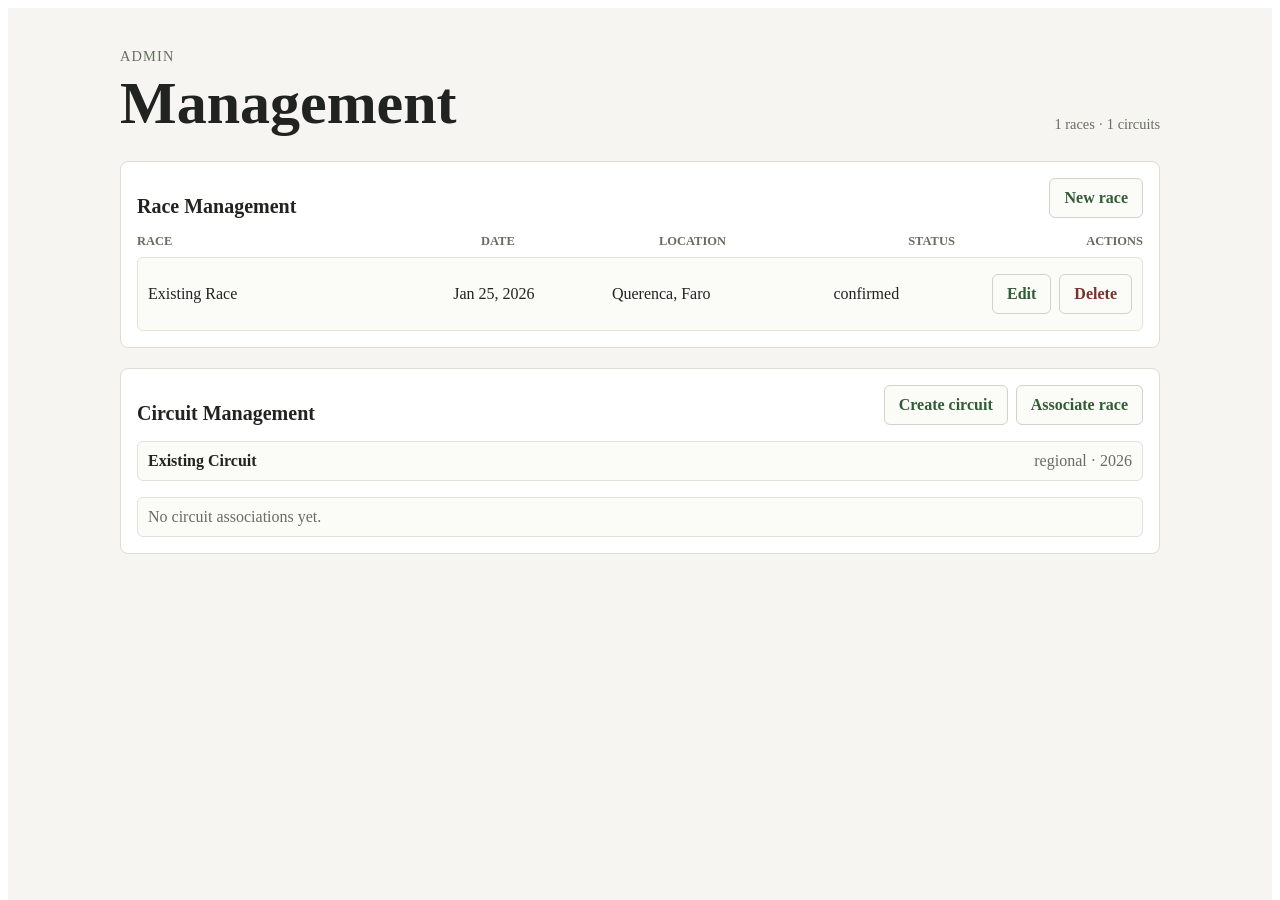
Test: AdminDashboardComponent › edits and deletes a race
The width and height of the screenshot is (1280, 900).
Click the button "Edit" at (1022, 294), box [992,274,1051,314]
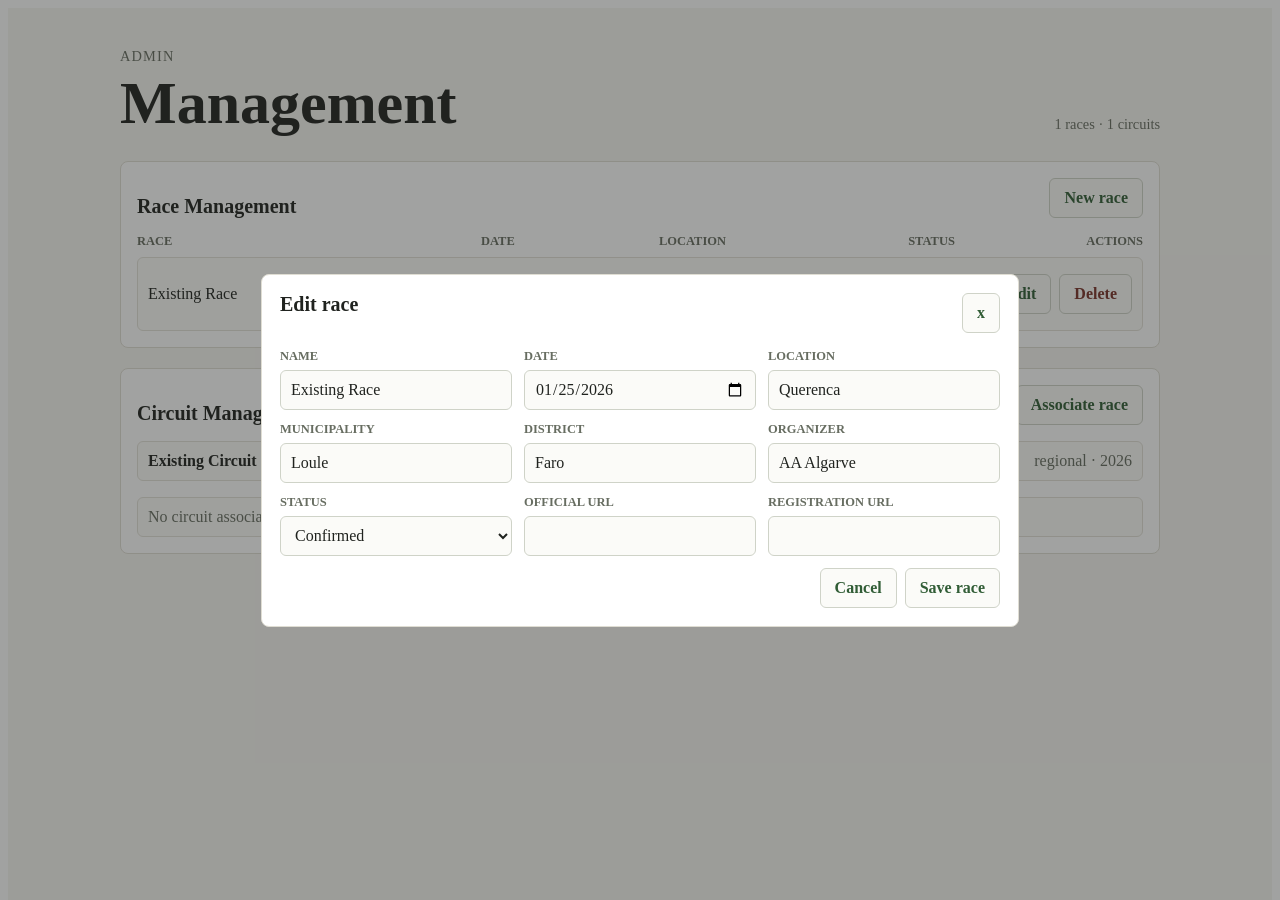
Replace the text in the field labelled "Name" with "Updated Race" at (396, 390), box [280,370,512,410]
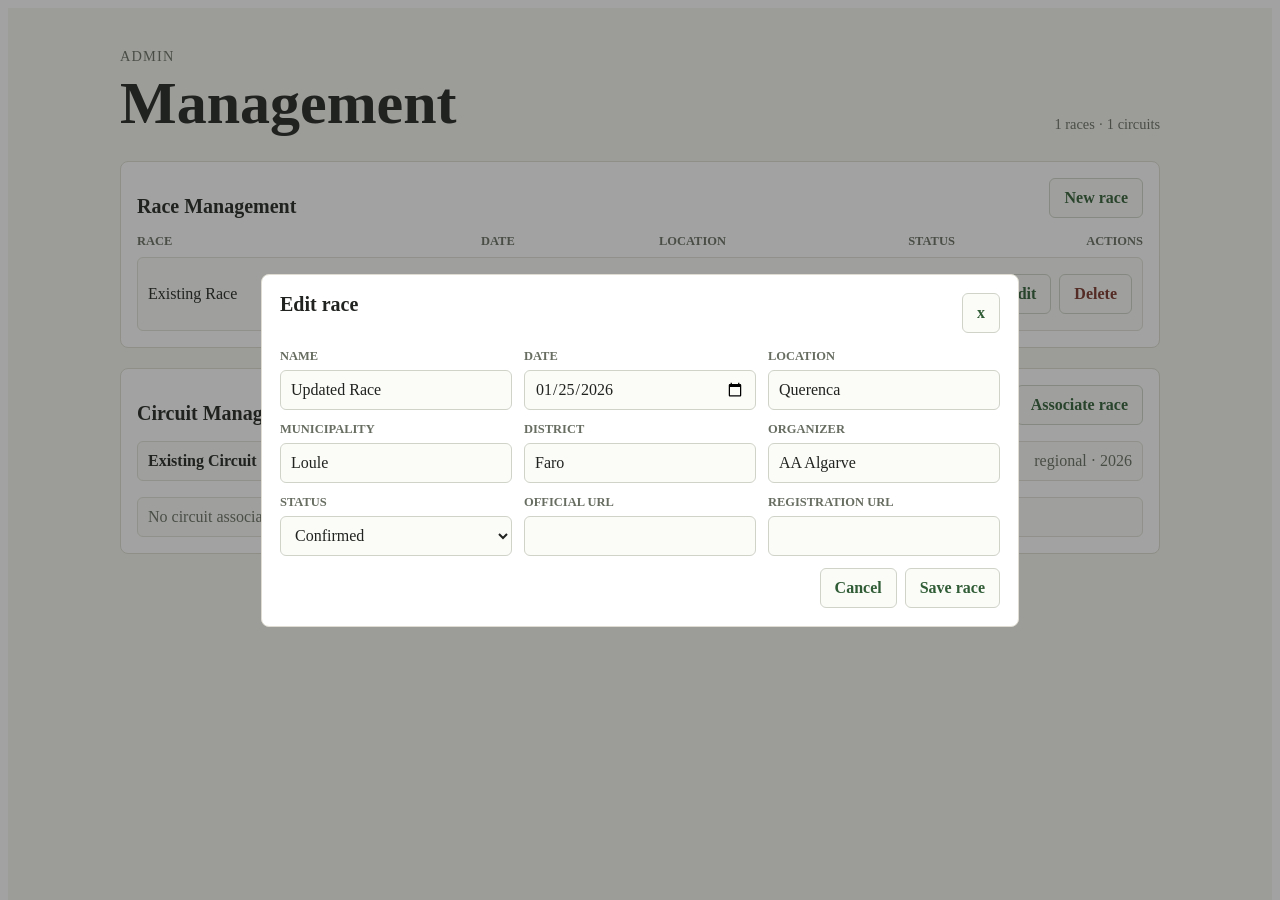
Submit the form, box [280,348,1000,608]
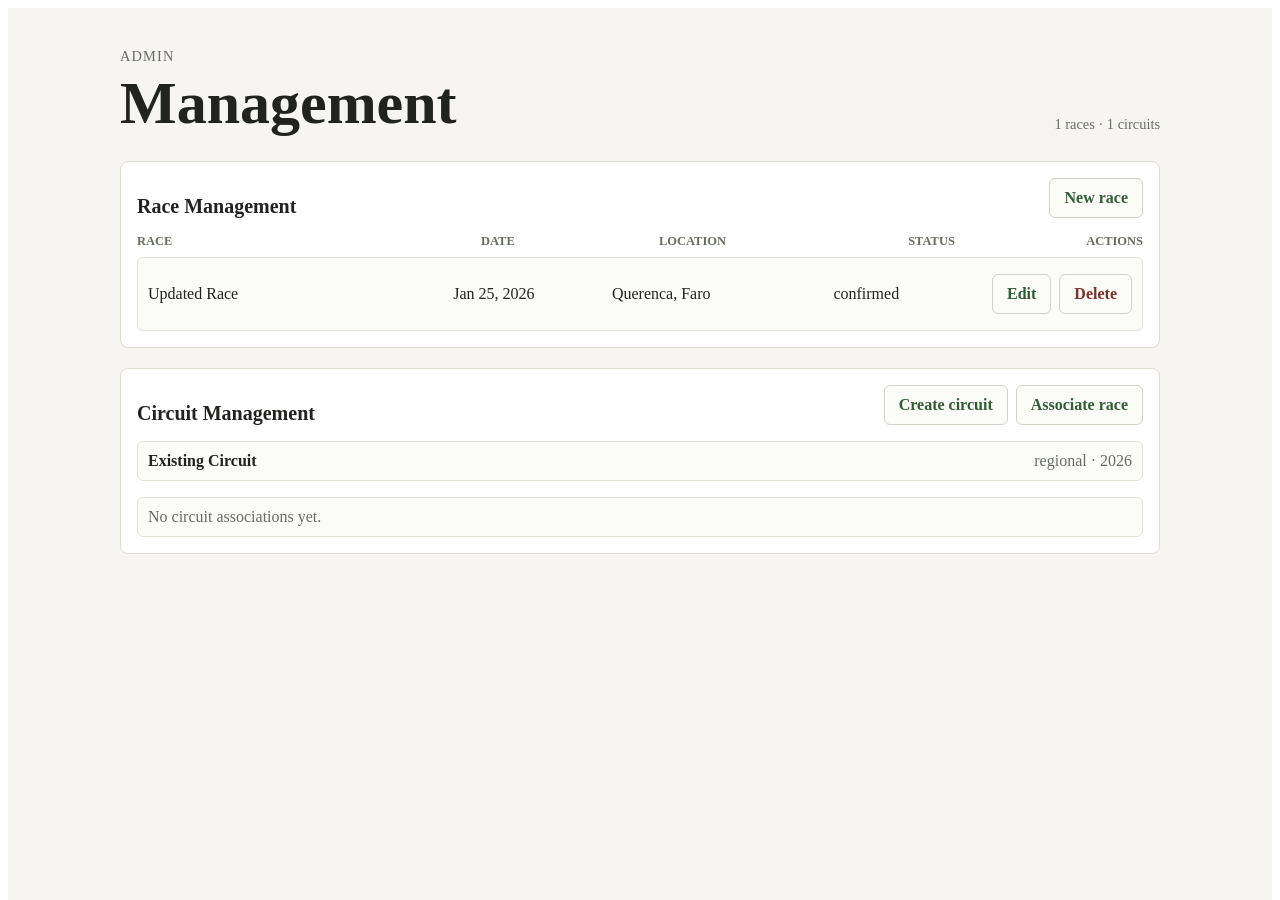
Check: the text "Updated Race" is shown, box [148,285,238,302]
Click the button "Delete" at (1096, 294), box [1059,274,1132,314]
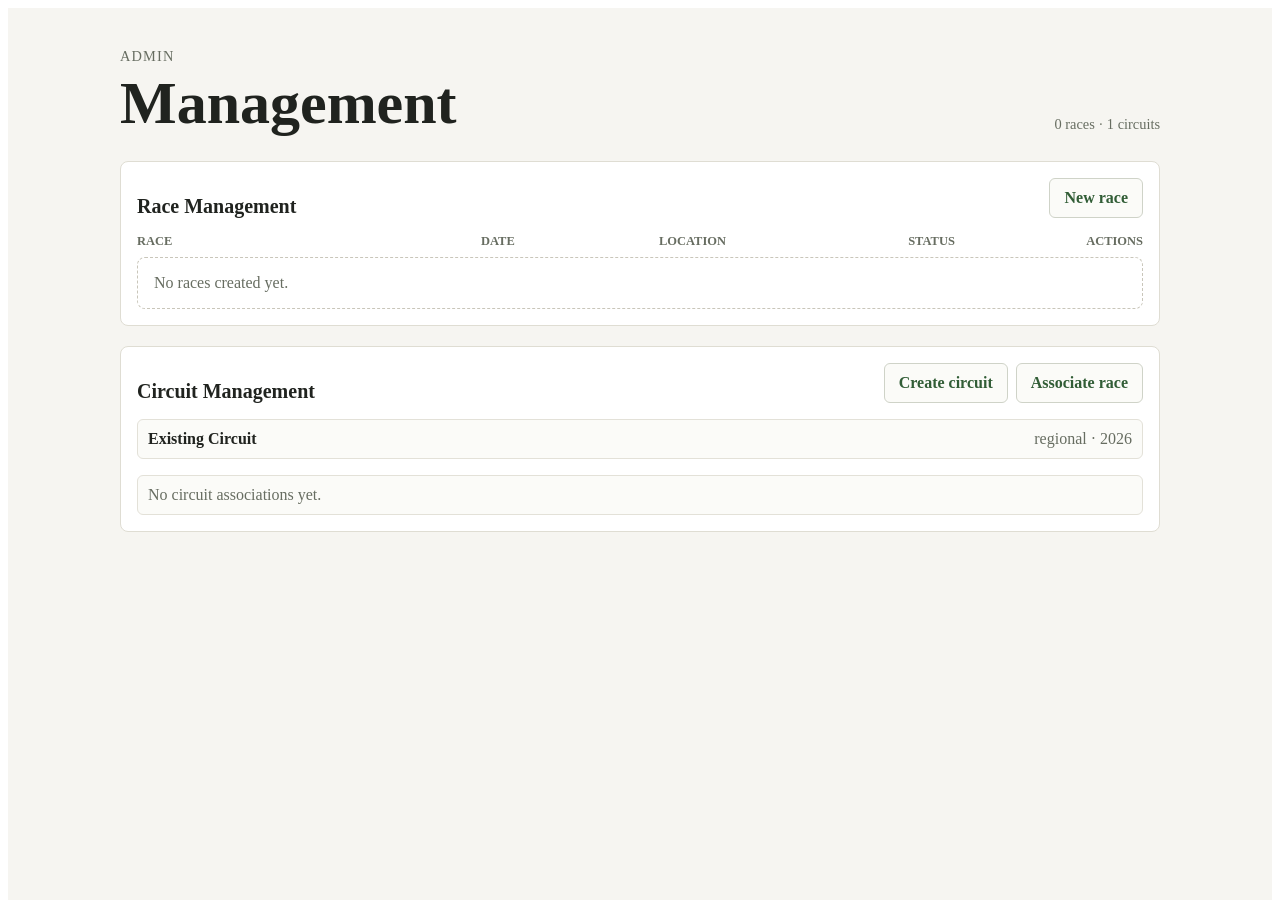
Check: the text "Updated Race" is gone
Check: the text "0 races" is shown, box [1054,116,1160,132]
